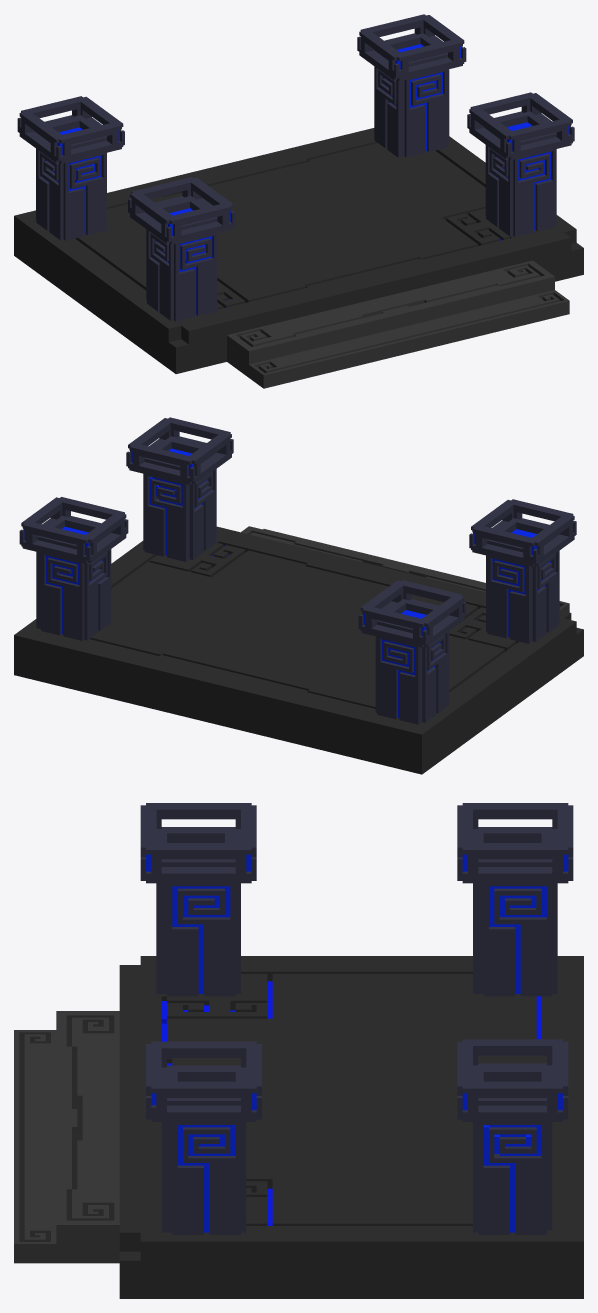
Rendered from portal_normal-1.obj.
The picture shows the model from 3 angles, top to bottom: view 1: azimuth 30°, elevation 25°; view 2: azimuth 150°, elevation 25°; view 3: azimuth 270°, elevation 25°; orthographic projection. The views are drawn at different scales.
Size of the model in its own units: 12.8 by 4.4 by 10.8.
Materials: 1 (1 with a texture image).
